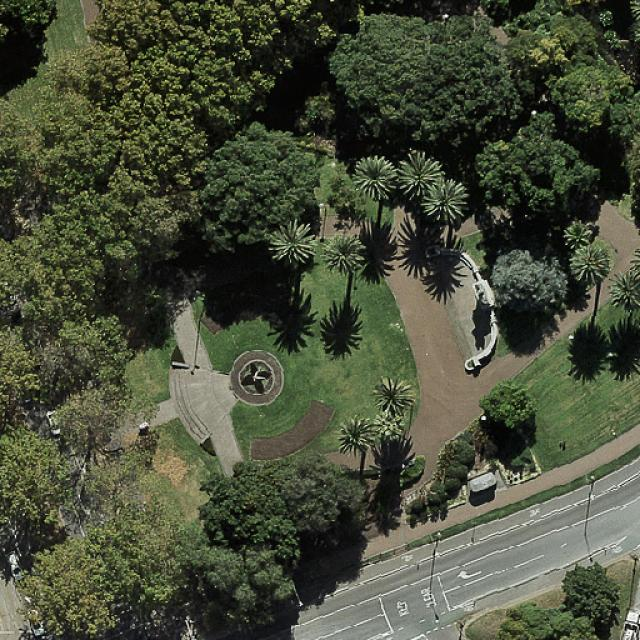Bike-Symbols: (528, 508, 540, 518), (402, 553, 414, 562), (610, 545, 622, 554), (463, 604, 475, 612)
